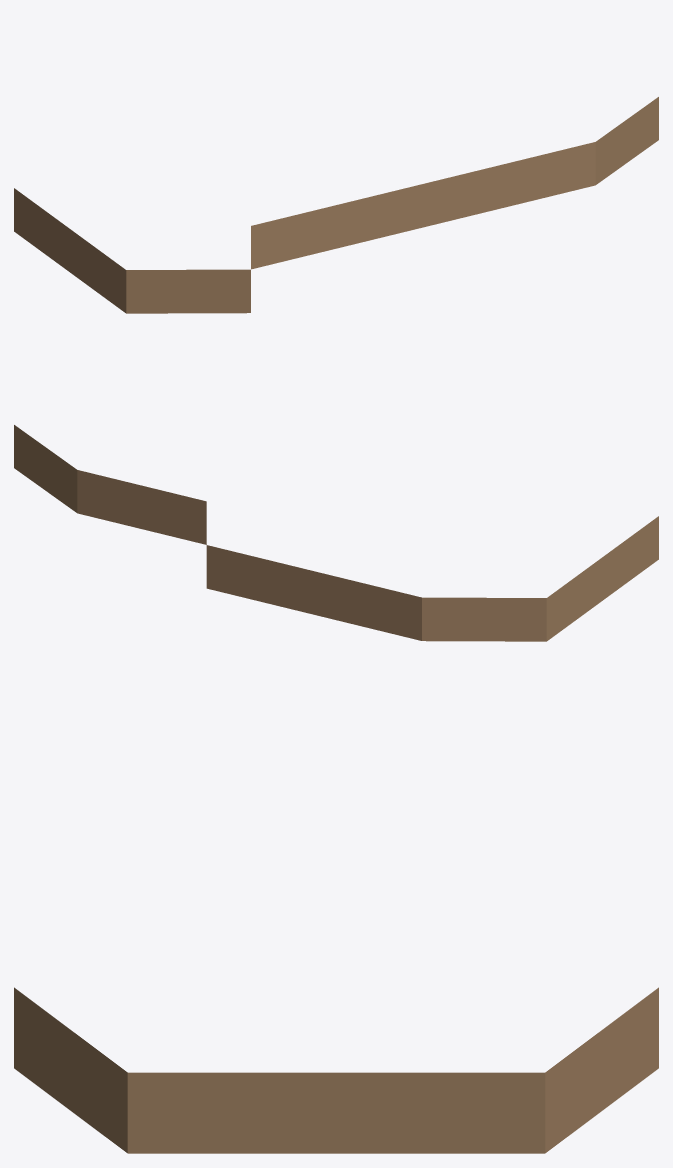
File: 1429-Buildings-shell-pieces-facade-bay-wall-round-an-opening-reveals-sill-head-emitBa.glb
3 views of the same model, one above another, from view 1: azimuth 30°, elevation 25°; view 2: azimuth 150°, elevation 25°; view 3: azimuth 270°, elevation 25° (orthographic). The views are drawn at different scales.
Visible parts, largest first — view 1: emitBay; view 2: emitBay; view 3: emitBay.
Part boxes in pixels (<box>): emitBay: <box>14,97,658,313</box>; emitBay: <box>14,425,658,641</box>; emitBay: <box>14,987,658,1153</box>.
Bounding box in the file's own units: 39 × 6.1 × 22.
